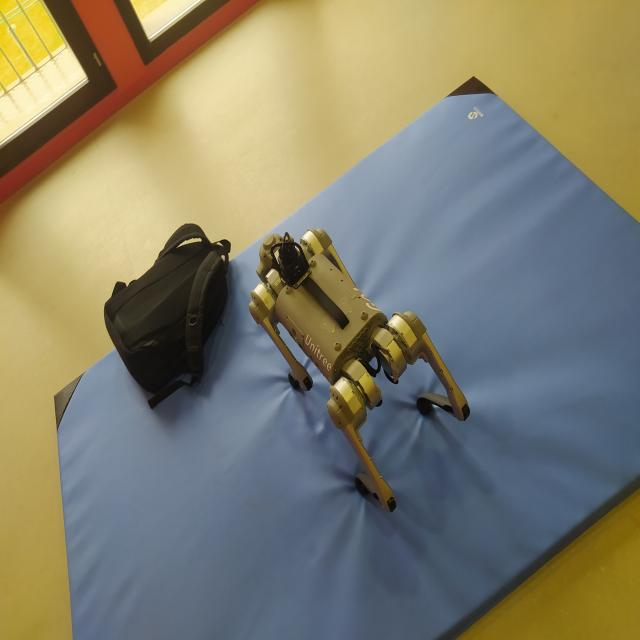unitree-go1-robot: (248, 230, 471, 520)
